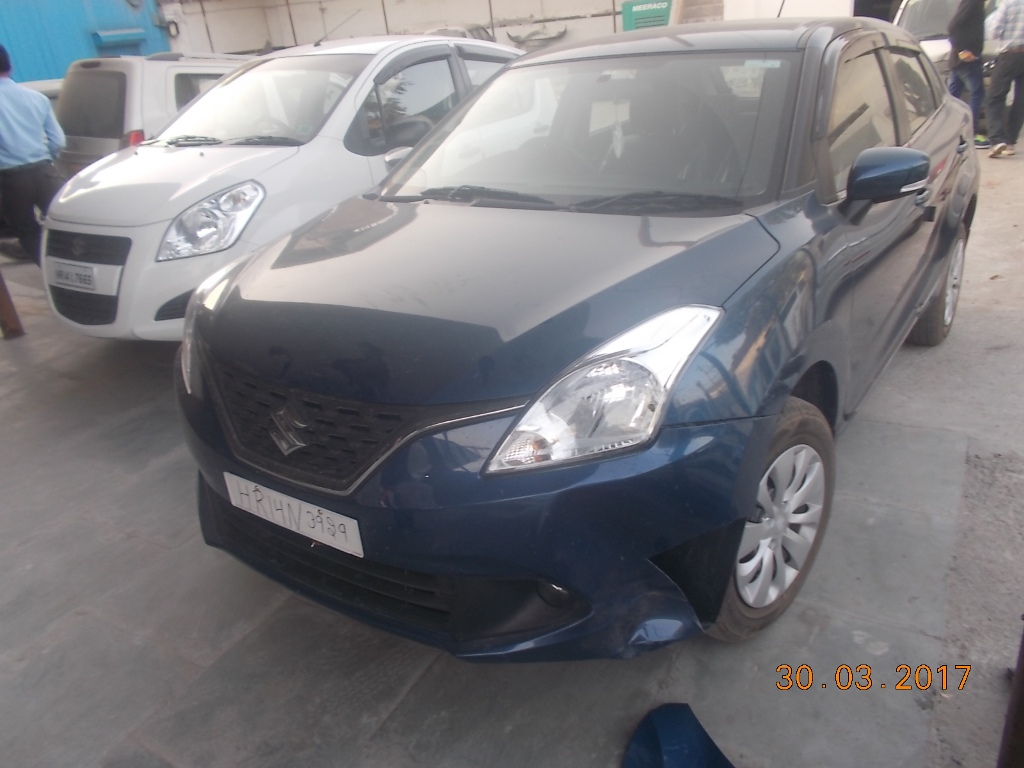Dent: (615, 531, 714, 641)
